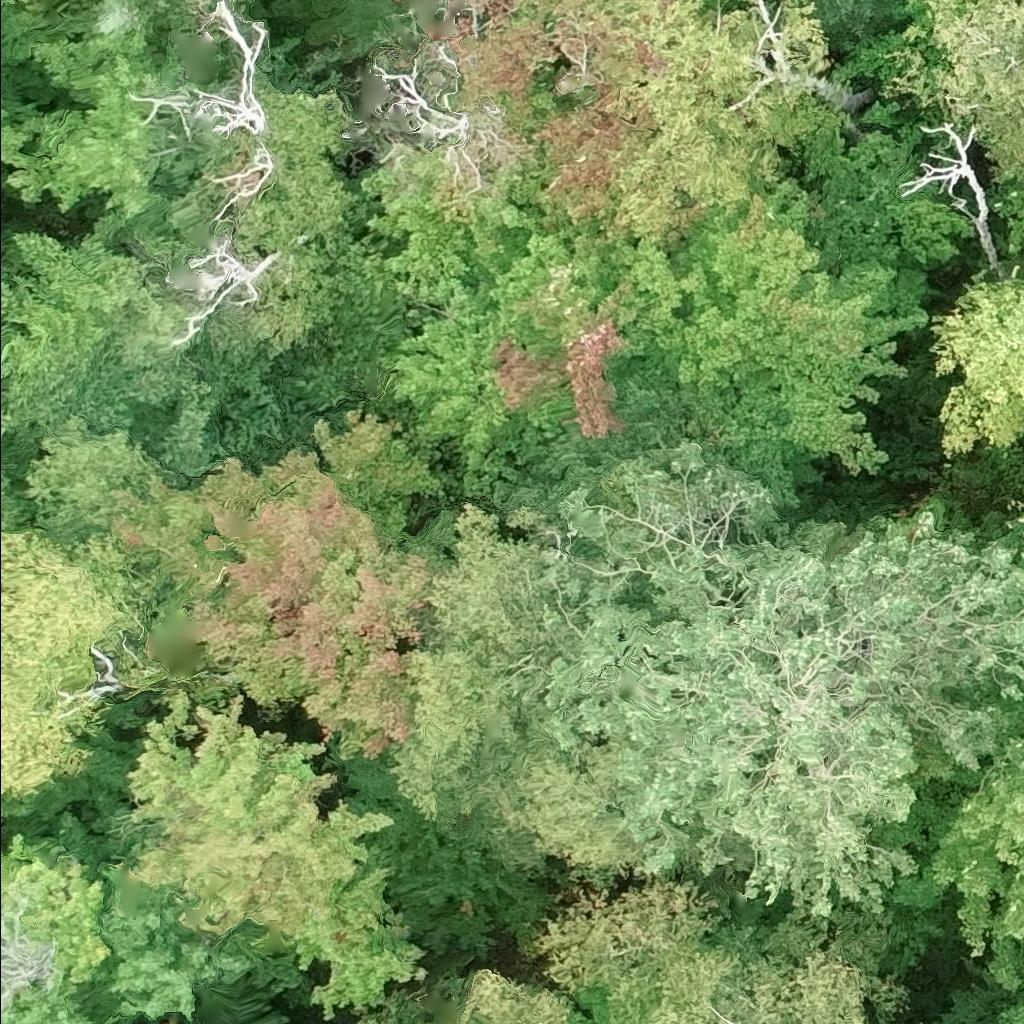crown: (539, 440, 1023, 916), (613, 172, 927, 514), (107, 445, 444, 763), (361, 138, 659, 493), (385, 499, 645, 868), (610, 0, 830, 244), (894, 730, 1023, 991), (603, 924, 877, 1023), (878, 0, 1023, 179), (312, 406, 444, 542), (928, 276, 1023, 462), (454, 967, 577, 1023), (808, 0, 909, 41), (996, 985, 1023, 1023), (1008, 493, 1023, 554)
